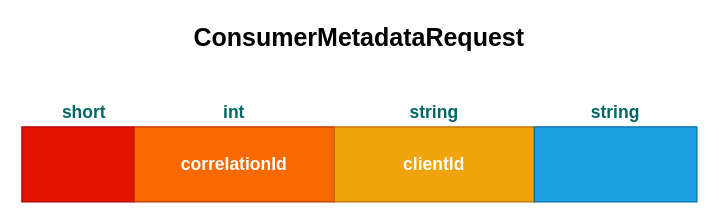
This 719x224 diagram has some shape labels left out. Here are the shapes that lost their labels. From the top down, the centre of each, then its label:
point (77, 164): versionId
point (615, 164): groupId
